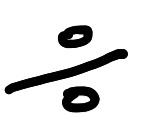div: (5, 24, 129, 114)
